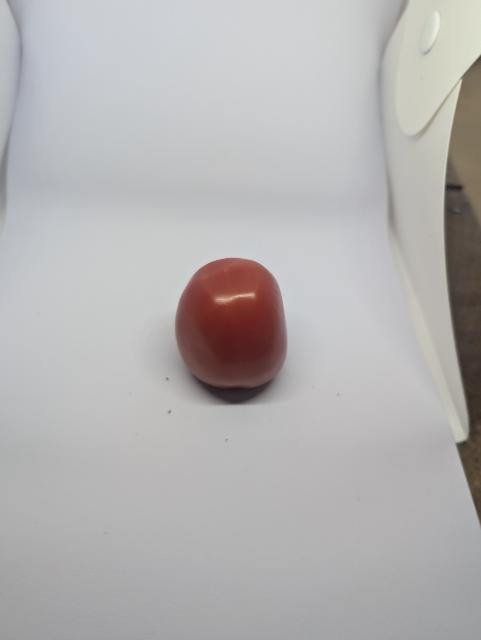red: (173, 256, 290, 393)
